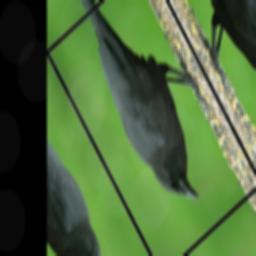Crow: (73, 0, 240, 224)
